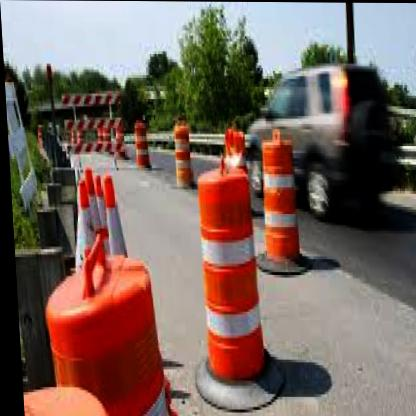obstacle: (187, 163, 260, 388), (257, 128, 300, 267)
